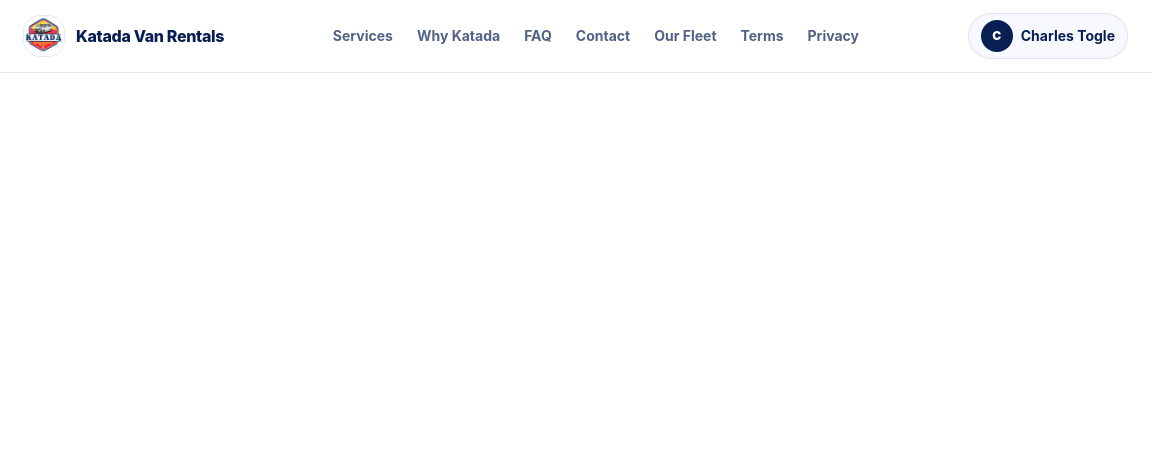
Scenario: AppHeader › renders public nav plus customer account dropdown for signed-in customers
This screenshot has width=1152, height=449.
Check: the link "Services" is shown, box [333,26,393,46]
Check: the link "Why Katada" is shown, box [417,26,500,46]
Click the button "C Charles Togle" at point(1048, 36), box [968,13,1128,59]
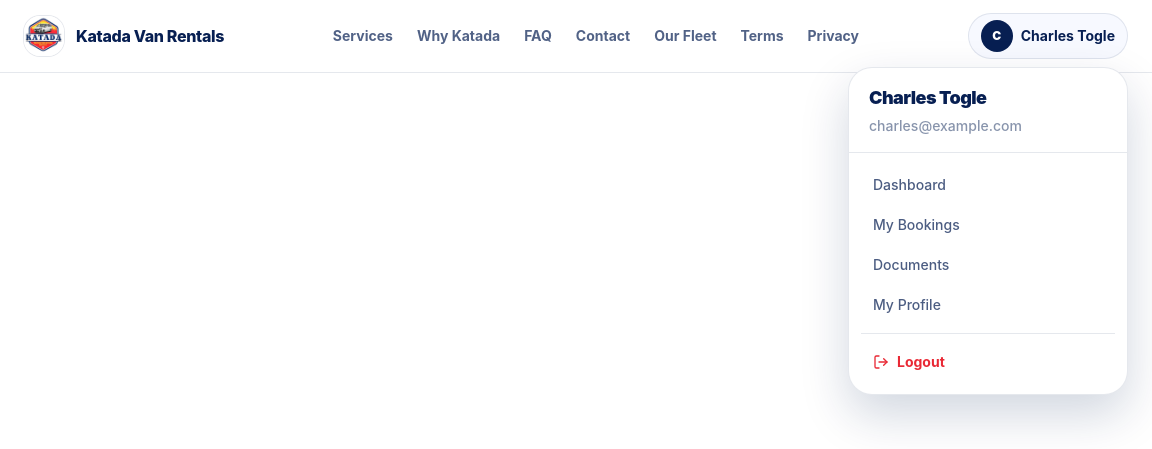
Check: the link "Dashboard" is shown, box [873,176,946,193]
Check: the link "My Bookings" is shown, box [873,216,960,233]
Check: the link "Documents" is shown, box [873,256,949,273]
